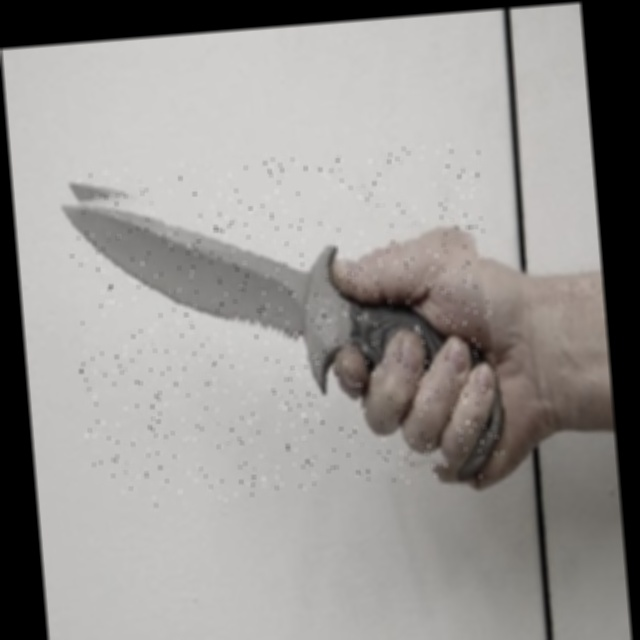Sharp-Object: (64, 140, 505, 512)
